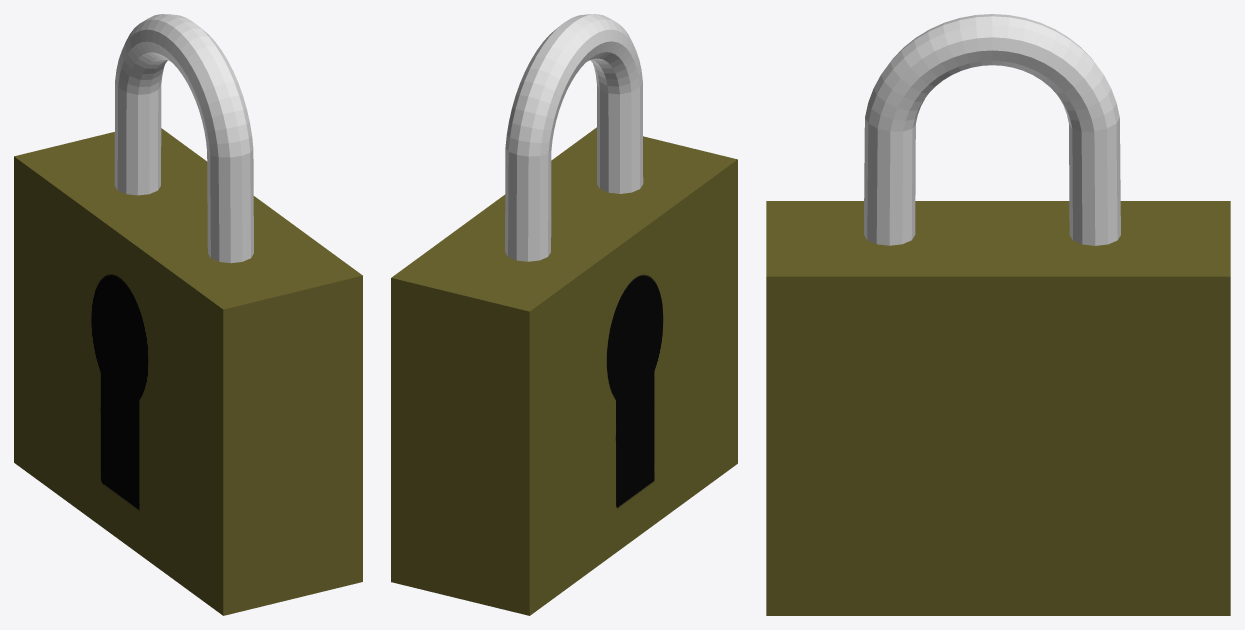
The model's file is lock.fbx.
3 views of the same model, side by side, from view 1: azimuth 30°, elevation 25°; view 2: azimuth 150°, elevation 25°; view 3: azimuth 270°, elevation 25° (orthographic). The views are drawn at different scales.
Parts seen in each view (by area): view 1: Cube, Torus; view 2: Cube, Torus; view 3: Cube, Torus.
Part boxes in pixels (<box>): Cube: <box>14,128,362,615</box>; Torus: <box>114,14,253,263</box>; Cube: <box>391,127,737,615</box>; Torus: <box>505,14,643,261</box>; Cube: <box>766,201,1230,615</box>; Torus: <box>863,14,1120,245</box>.
Size of the model in its own units: 23.59 by 81.37 by 61.31.
